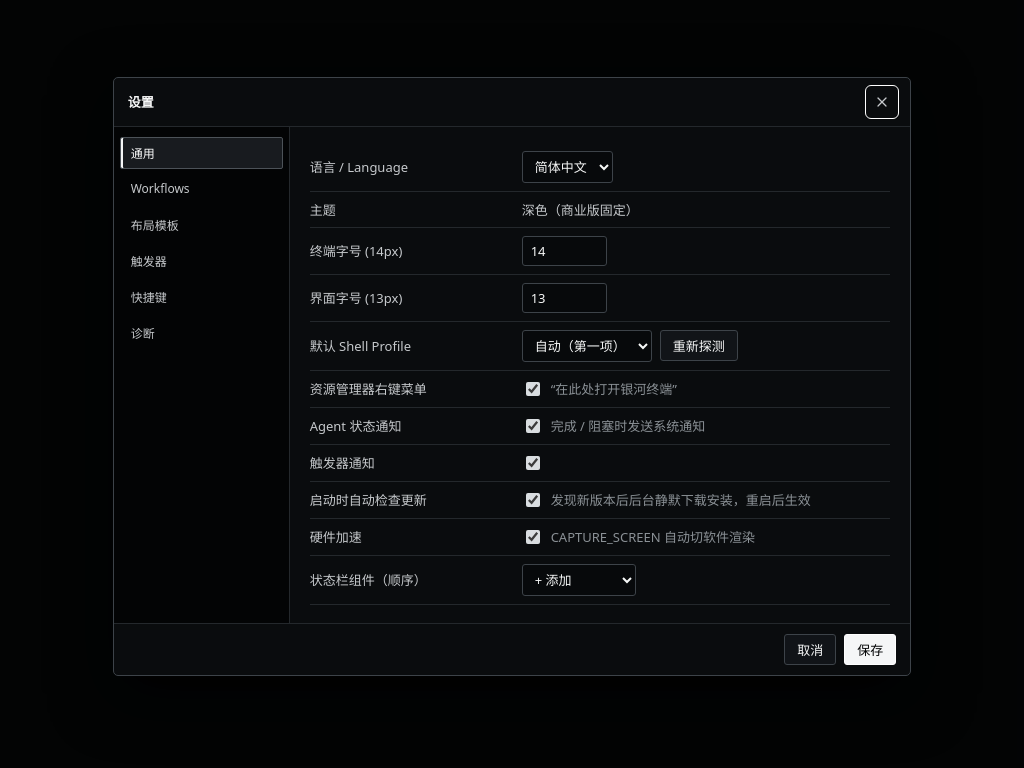
settings appearance preview › keeps a failed delayed save open and restores dismissal afterward
The image size is (1024, 768).
Replace the text in the number field in the row of "14" with "20" at (564, 251), box x1=522 y1=236 x2=607 y2=266
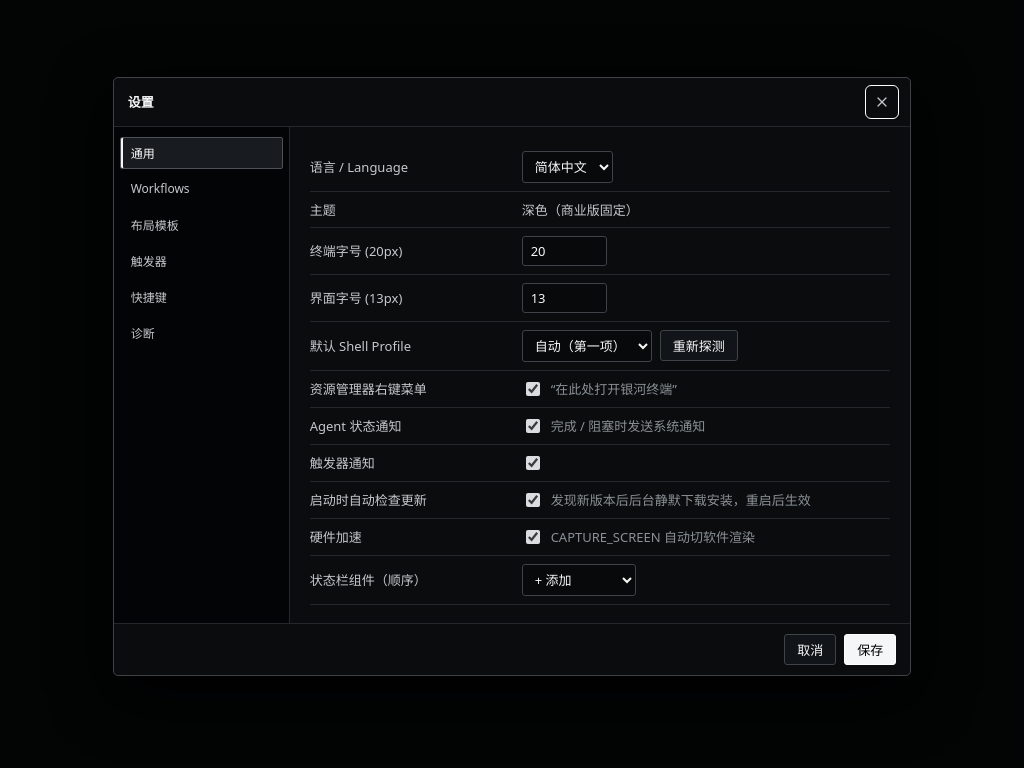
Replace the text in the number field in the row of "13" with "18" at (564, 298), box x1=522 y1=283 x2=607 y2=313
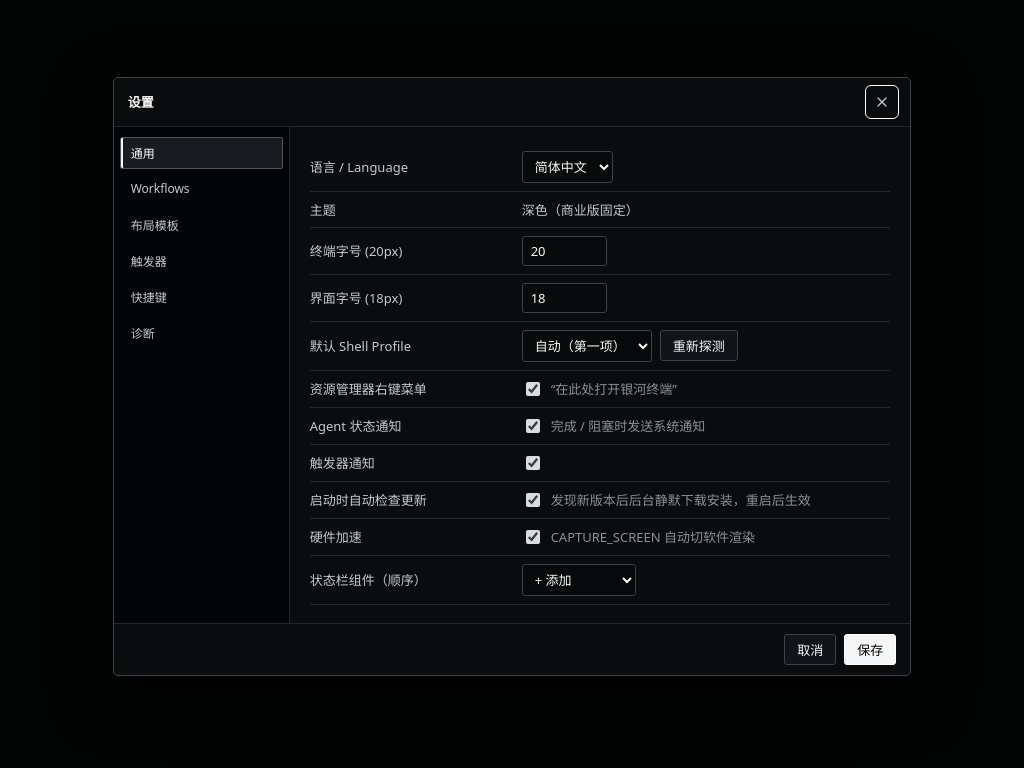
Click the button "保存" at (870, 649), box x1=844 y1=634 x2=896 y2=665
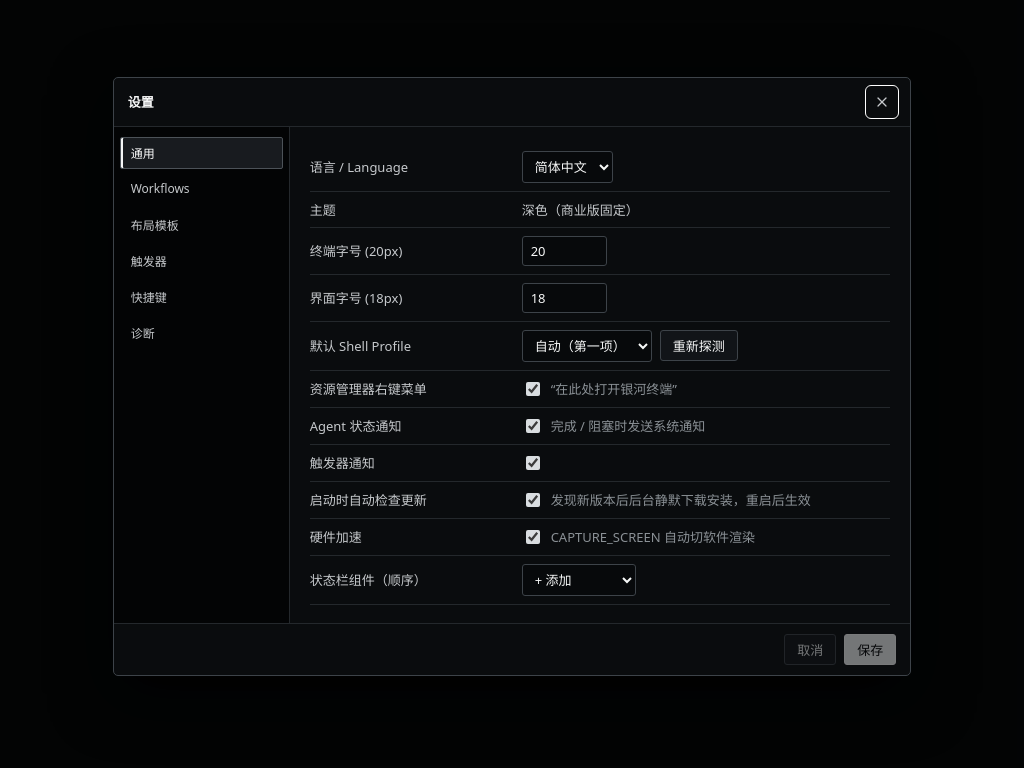
Press Escape
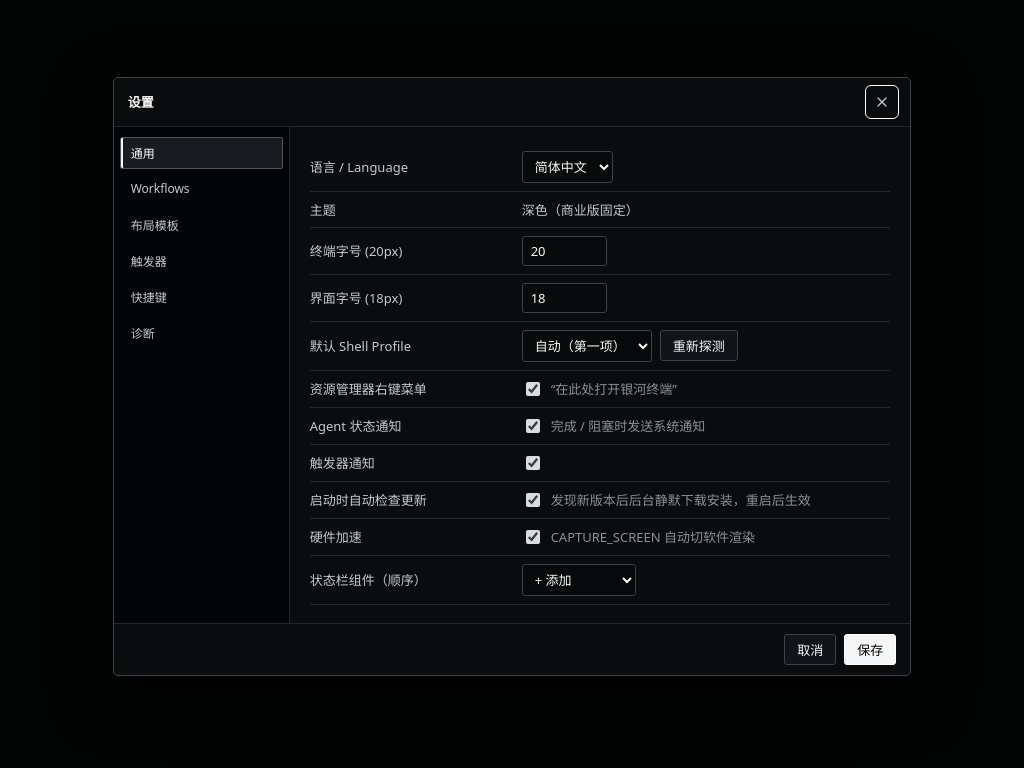
Check: the button "取消" is enabled, box x1=784 y1=634 x2=836 y2=665
